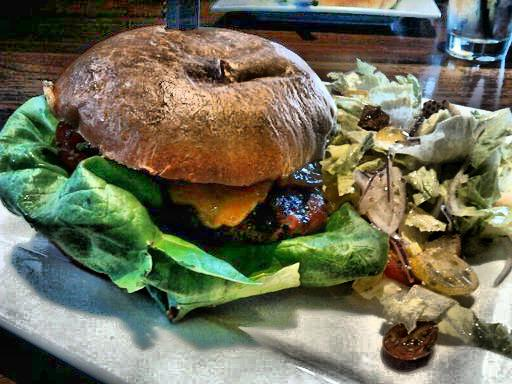burger: (12, 20, 331, 324)
